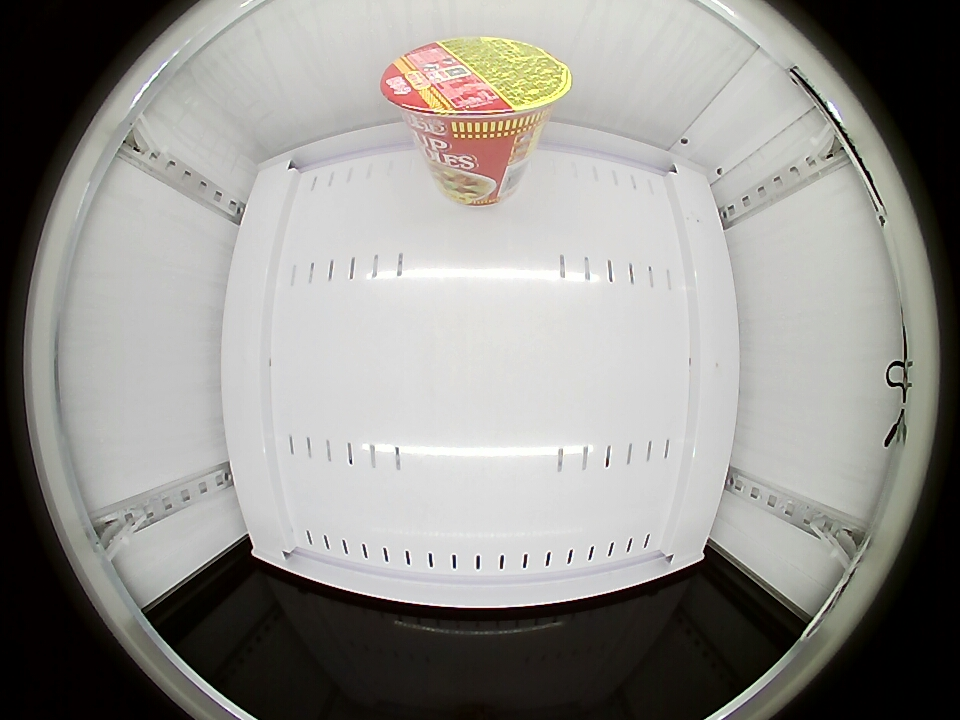heweidao3: (381, 36, 572, 148)
